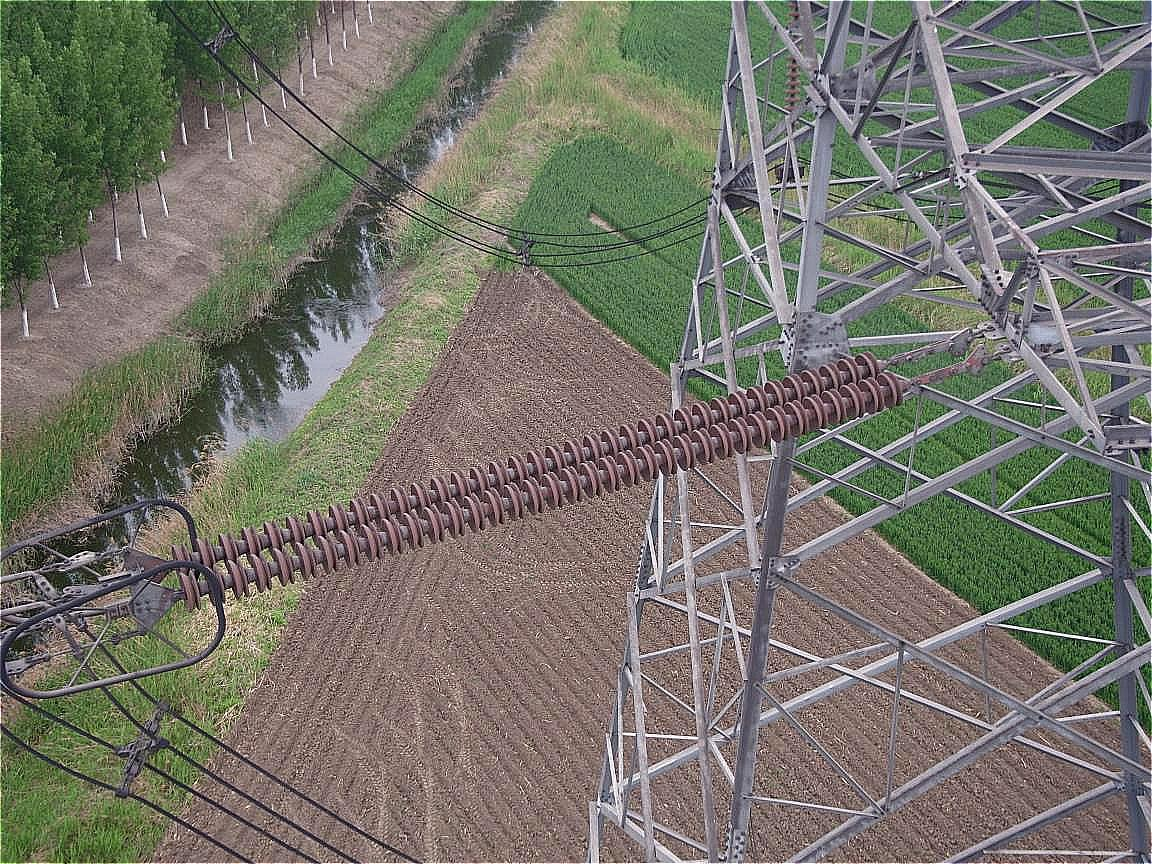insultor2: (172, 349, 910, 616)
